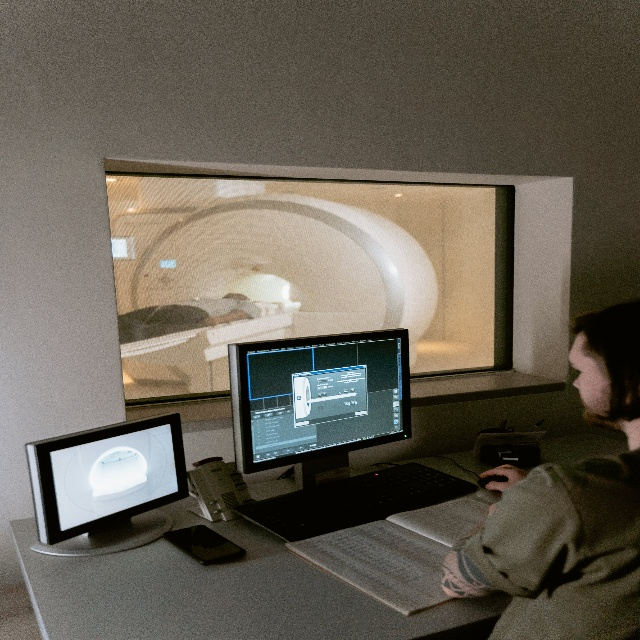Sin_guantes: (478, 466, 527, 496)
